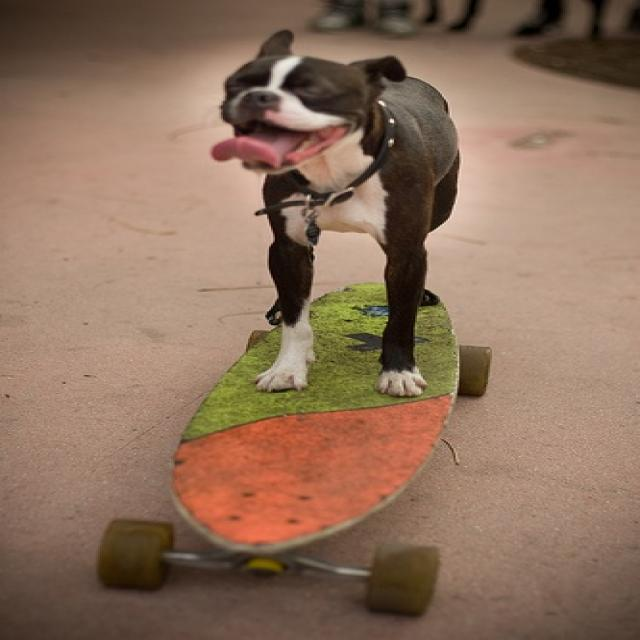dog: (208, 26, 458, 397)
